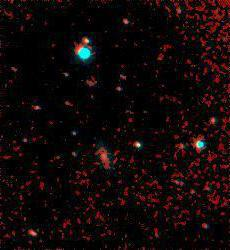star: (86, 139, 116, 169)
